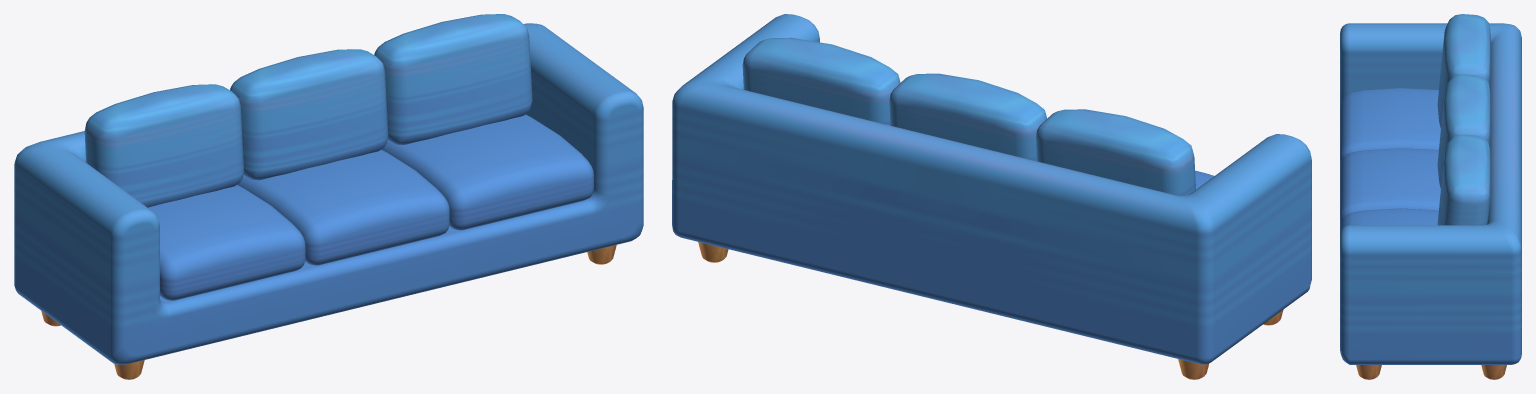
File: couch-08.glb
The picture shows the model from 3 angles, left to right: view 1: azimuth 30°, elevation 25°; view 2: azimuth 150°, elevation 25°; view 3: azimuth 270°, elevation 25°; orthographic projection. The views are drawn at different scales.
Parts seen in each view (by area): view 1: Couch_08; view 2: Couch_08; view 3: Couch_08.
Part boxes in pixels (x1,y1,x2,y2): Couch_08: (14, 14, 643, 379); Couch_08: (672, 14, 1311, 379); Couch_08: (1340, 14, 1521, 379).
Bounding box in the file's own units: 2.21 × 0.8621 × 0.765.
Materials: 1 (1 with a texture image).
